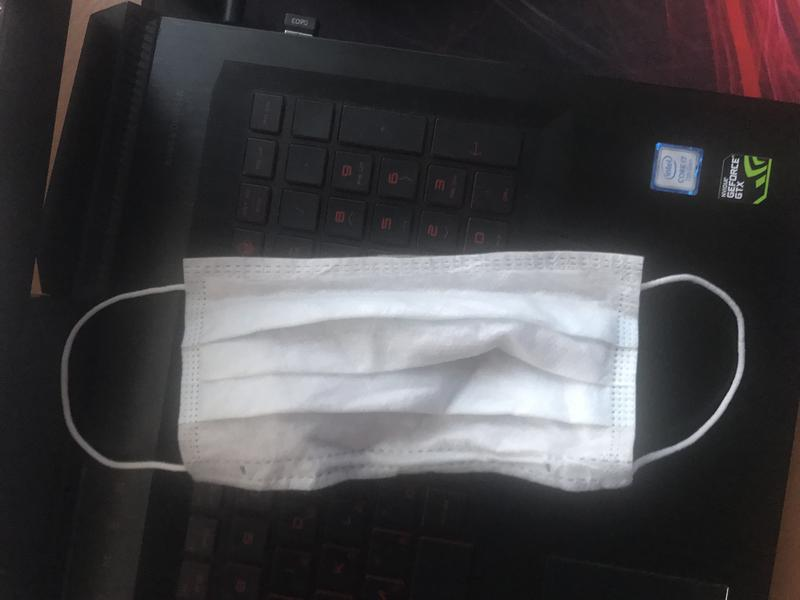medical_mask: (62, 253, 744, 493)
